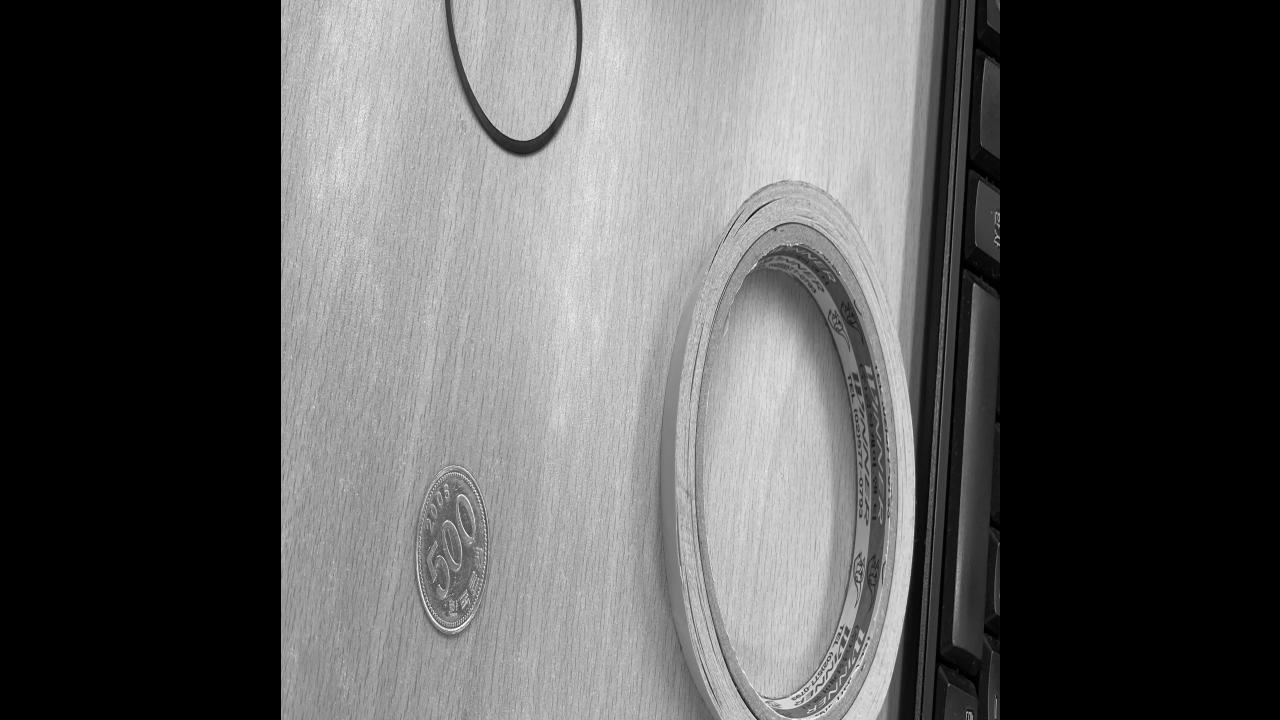coin: (410, 457, 492, 642)
